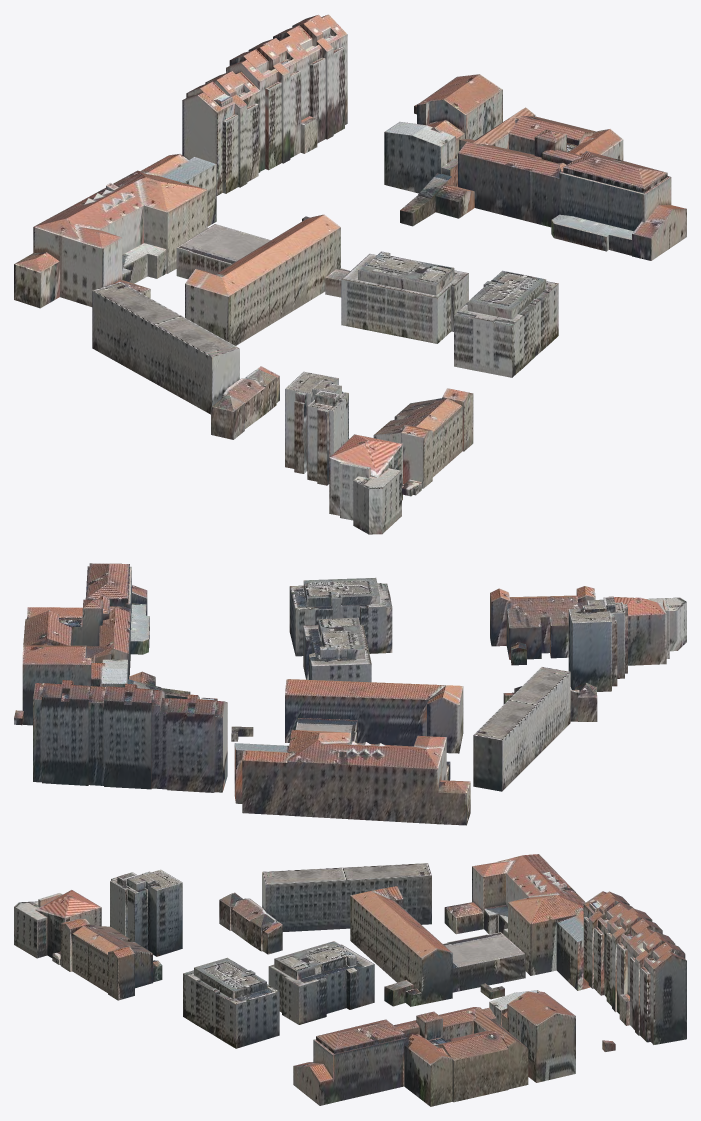
File: LYON_1ER_00036.dae
3 renders of one model, top to bottom at view 1: azimuth 30°, elevation 25°; view 2: azimuth 150°, elevation 25°; view 3: azimuth 270°, elevation 25°, orthographic. The views are drawn at different scales.
Bounding box in the file's own units: 183 × 228 × 49.7.
1 material, 1 textured.
